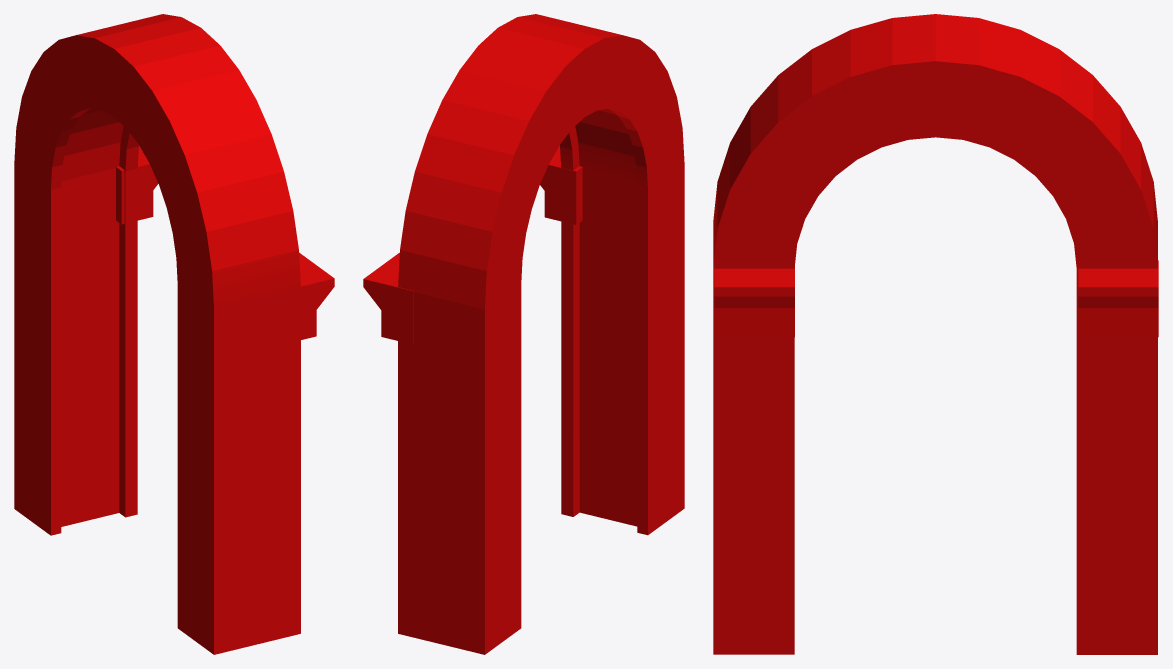
The model's file is Arc_03_Lod0.fbx.
3 views of the same model, side by side, from view 1: azimuth 30°, elevation 25°; view 2: azimuth 150°, elevation 25°; view 3: azimuth 270°, elevation 25° (orthographic). The views are drawn at different scales.
Parts seen in each view (by area): view 1: Arc_03_Lod0; view 2: Arc_03_Lod0; view 3: Arc_03_Lod0.
Boxes of the visible parts, x1,y1,x2,y2 form: Arc_03_Lod0: (14,14,334,654); Arc_03_Lod0: (363,14,684,654); Arc_03_Lod0: (713,14,1158,654).
Bounding box in the file's own units: 220 × 926 × 630.
